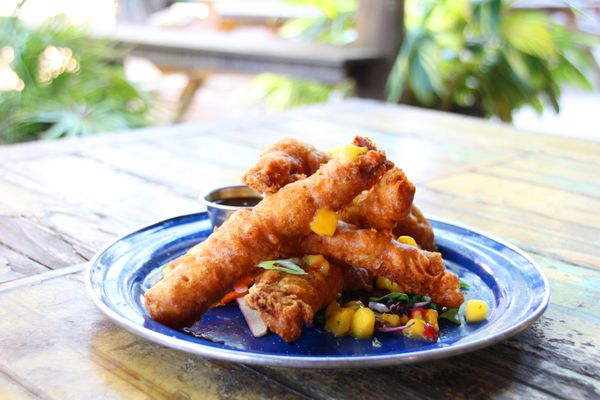pizza: (202, 183, 265, 231)
soup: (143, 134, 466, 343)
